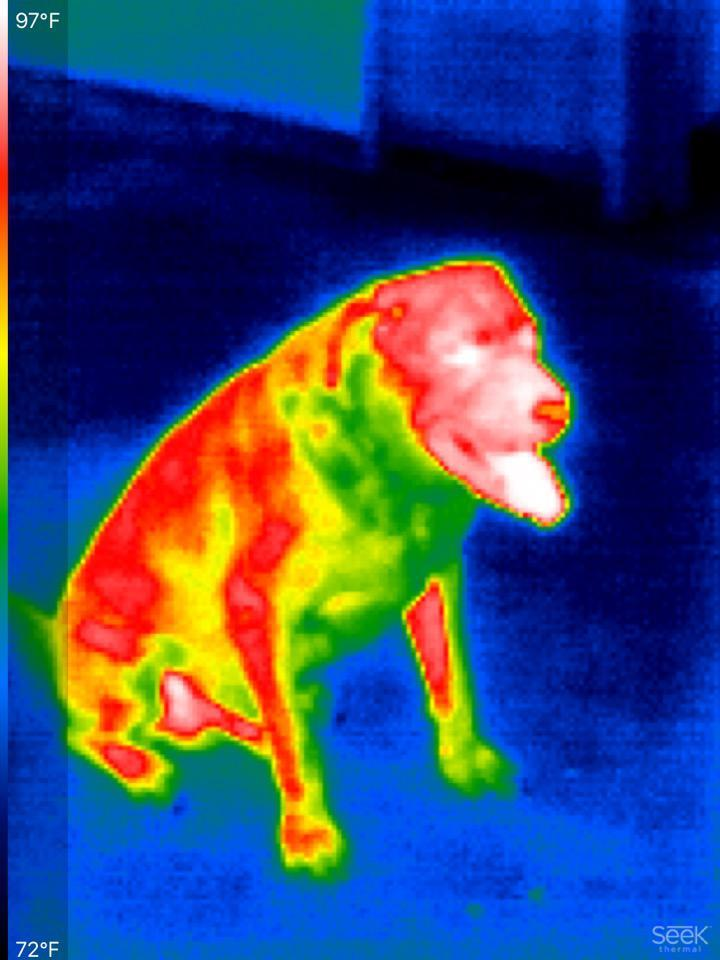dog: (50, 241, 582, 873)
